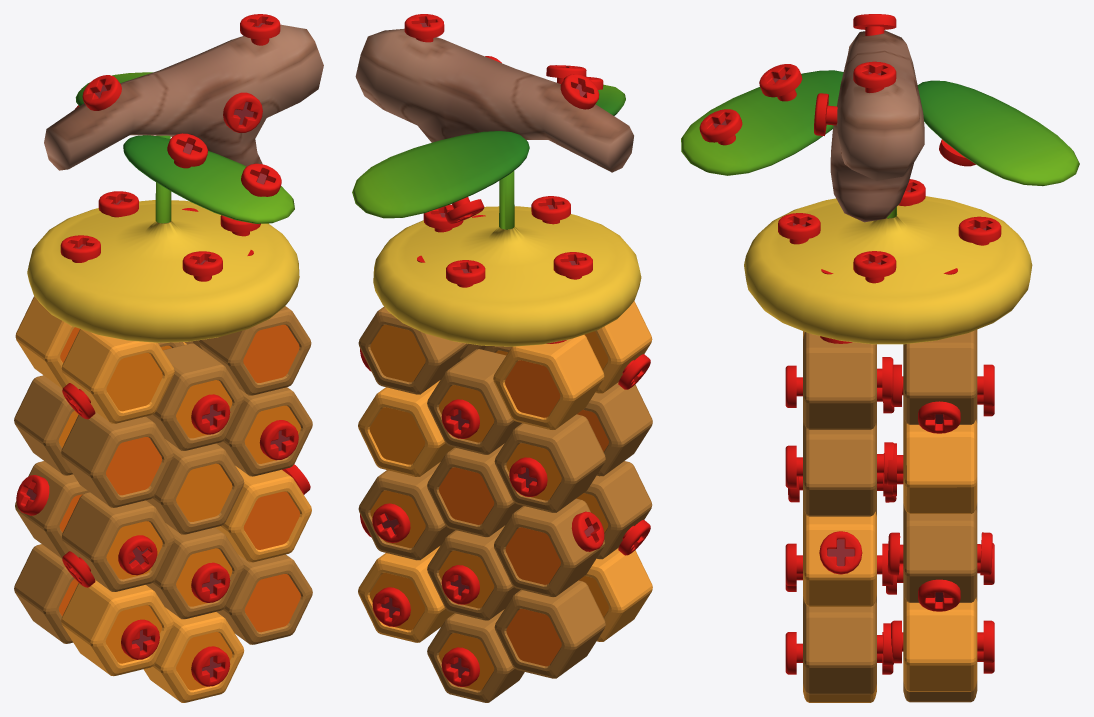
Rendered from level_5.fbx.
3 views of the same model, side by side, from view 1: azimuth 30°, elevation 25°; view 2: azimuth 150°, elevation 25°; view 3: azimuth 270°, elevation 25° (orthographic). The views are drawn at different scales.
Parts seen in each view (by area): view 1: Torus.005, Cube.008, Cylinder.013, Cylinder.014, Cube.002, Cylinder.019, Cylinder.020, Cylinder.001, Cylinder.016, Cylinder.017, Cylinder.007, Cylinder.011 (+25 smaller); view 2: Torus.005, Cube.008, Cube.003, Cylinder.031, Cylinder.022, Cylinder.030, Cylinder.025, Cylinder.027, Cylinder.021, Cylinder.028, Cylinder.026, Cylinder.061 (+25 smaller); view 3: Torus.005, Cube.008, Cube.003, Cube.002, Cylinder.007, Cylinder.017, Cylinder.002, Cylinder.027, Cylinder.060, Cylinder.061, Cylinder.028, Cylinder.016 (+19 smaller).
Part boxes in pixels (box(x1,y1,x2,y2)): Torus.005: box(27, 135, 299, 342); Cube.008: box(44, 24, 323, 170); Cylinder.013: box(61, 411, 173, 507); Cylinder.014: box(61, 329, 174, 423); Cube.002: box(123, 135, 294, 223); Cylinder.019: box(61, 580, 173, 676); Cylinder.020: box(61, 492, 174, 591); Cylinder.001: box(146, 439, 244, 534); Cylinder.016: box(215, 466, 311, 562); Cylinder.017: box(216, 554, 312, 644); Cylinder.007: box(198, 306, 311, 395); Cylinder.011: box(146, 343, 244, 450); Torus.005: box(373, 171, 641, 346); Cube.008: box(355, 28, 633, 172); Cube.003: box(352, 131, 529, 218); Cylinder.031: box(494, 580, 605, 678); Cylinder.022: box(493, 334, 604, 430); Cylinder.030: box(494, 498, 604, 597); Cylinder.025: box(494, 414, 605, 512); Cylinder.027: box(358, 380, 454, 476); Cylinder.021: box(427, 443, 522, 537); Cylinder.028: box(358, 307, 468, 394); Cylinder.026: box(427, 349, 521, 454); Cylinder.061: box(358, 462, 455, 560); Torus.005: box(744, 196, 1032, 344); Cube.008: box(830, 30, 924, 222); Cube.003: box(917, 80, 1079, 186); Cube.002: box(681, 70, 843, 175); Cylinder.007: box(803, 332, 876, 429); Cylinder.017: box(803, 600, 876, 694); Cylinder.002: box(803, 423, 876, 516); Cylinder.027: box(903, 419, 977, 513); Cylinder.060: box(903, 597, 977, 691); Cylinder.061: box(903, 508, 977, 602); Cylinder.028: box(903, 330, 977, 424); Cylinder.016: box(803, 511, 876, 606).
Size of the model in its own units: 5.66 by 12.63 by 6.82.
